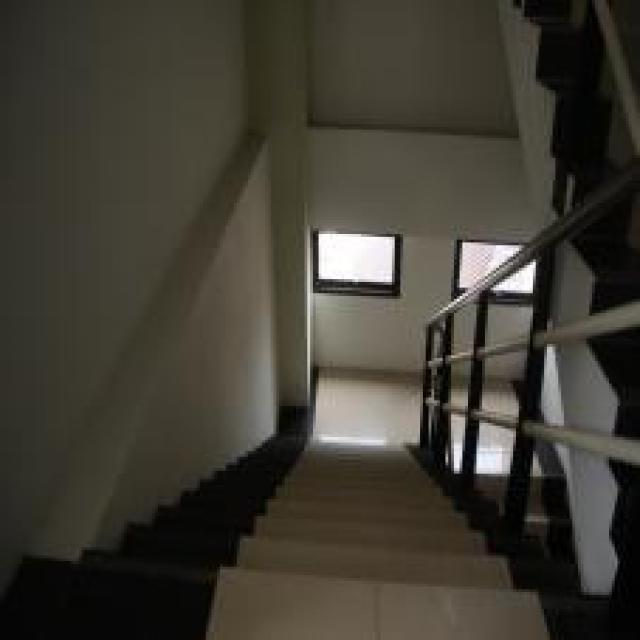downstair: (238, 461, 432, 638)
